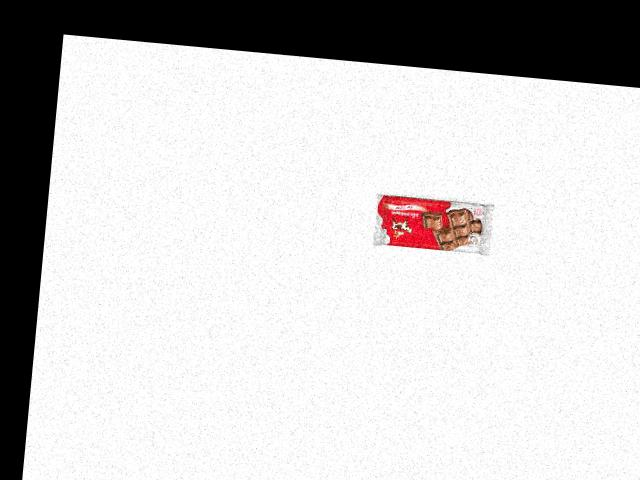chocolate: (371, 193, 498, 257)
